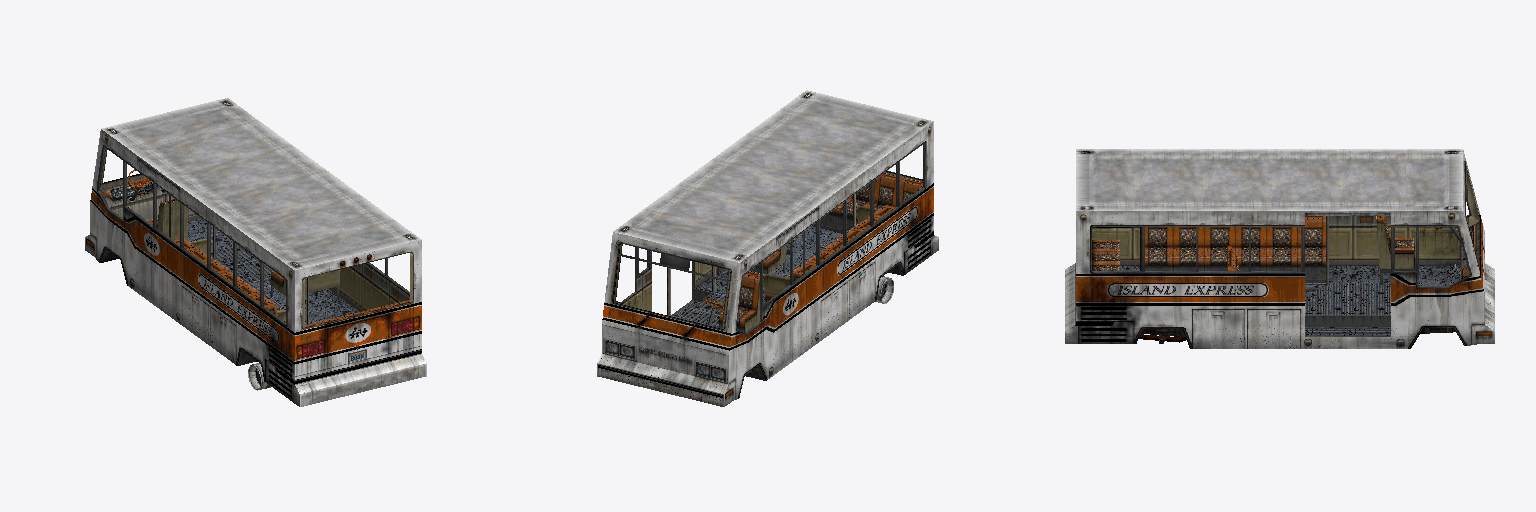
The picture shows the model from 3 angles: view 1: azimuth 30°, elevation 25°; view 2: azimuth 150°, elevation 25°; view 3: azimuth 270°, elevation 25°; orthographic projection.
Parts seen in each view (by area): view 1: Pbuscrash-00.Pbuscrash-05_Pbuscrash-00; view 2: Pbuscrash-00.Pbuscrash-05_Pbuscrash-00; view 3: Pbuscrash-00.Pbuscrash-05_Pbuscrash-00.
Boxes of the visible parts, box(x1,y1,x2,y2) form: Pbuscrash-00.Pbuscrash-05_Pbuscrash-00: box(85, 98, 426, 406); Pbuscrash-00.Pbuscrash-05_Pbuscrash-00: box(597, 90, 938, 406); Pbuscrash-00.Pbuscrash-05_Pbuscrash-00: box(1065, 149, 1494, 348).
Size of the model in its own units: 0.6834 by 0.7781 by 2.
38 materials, 38 textured.